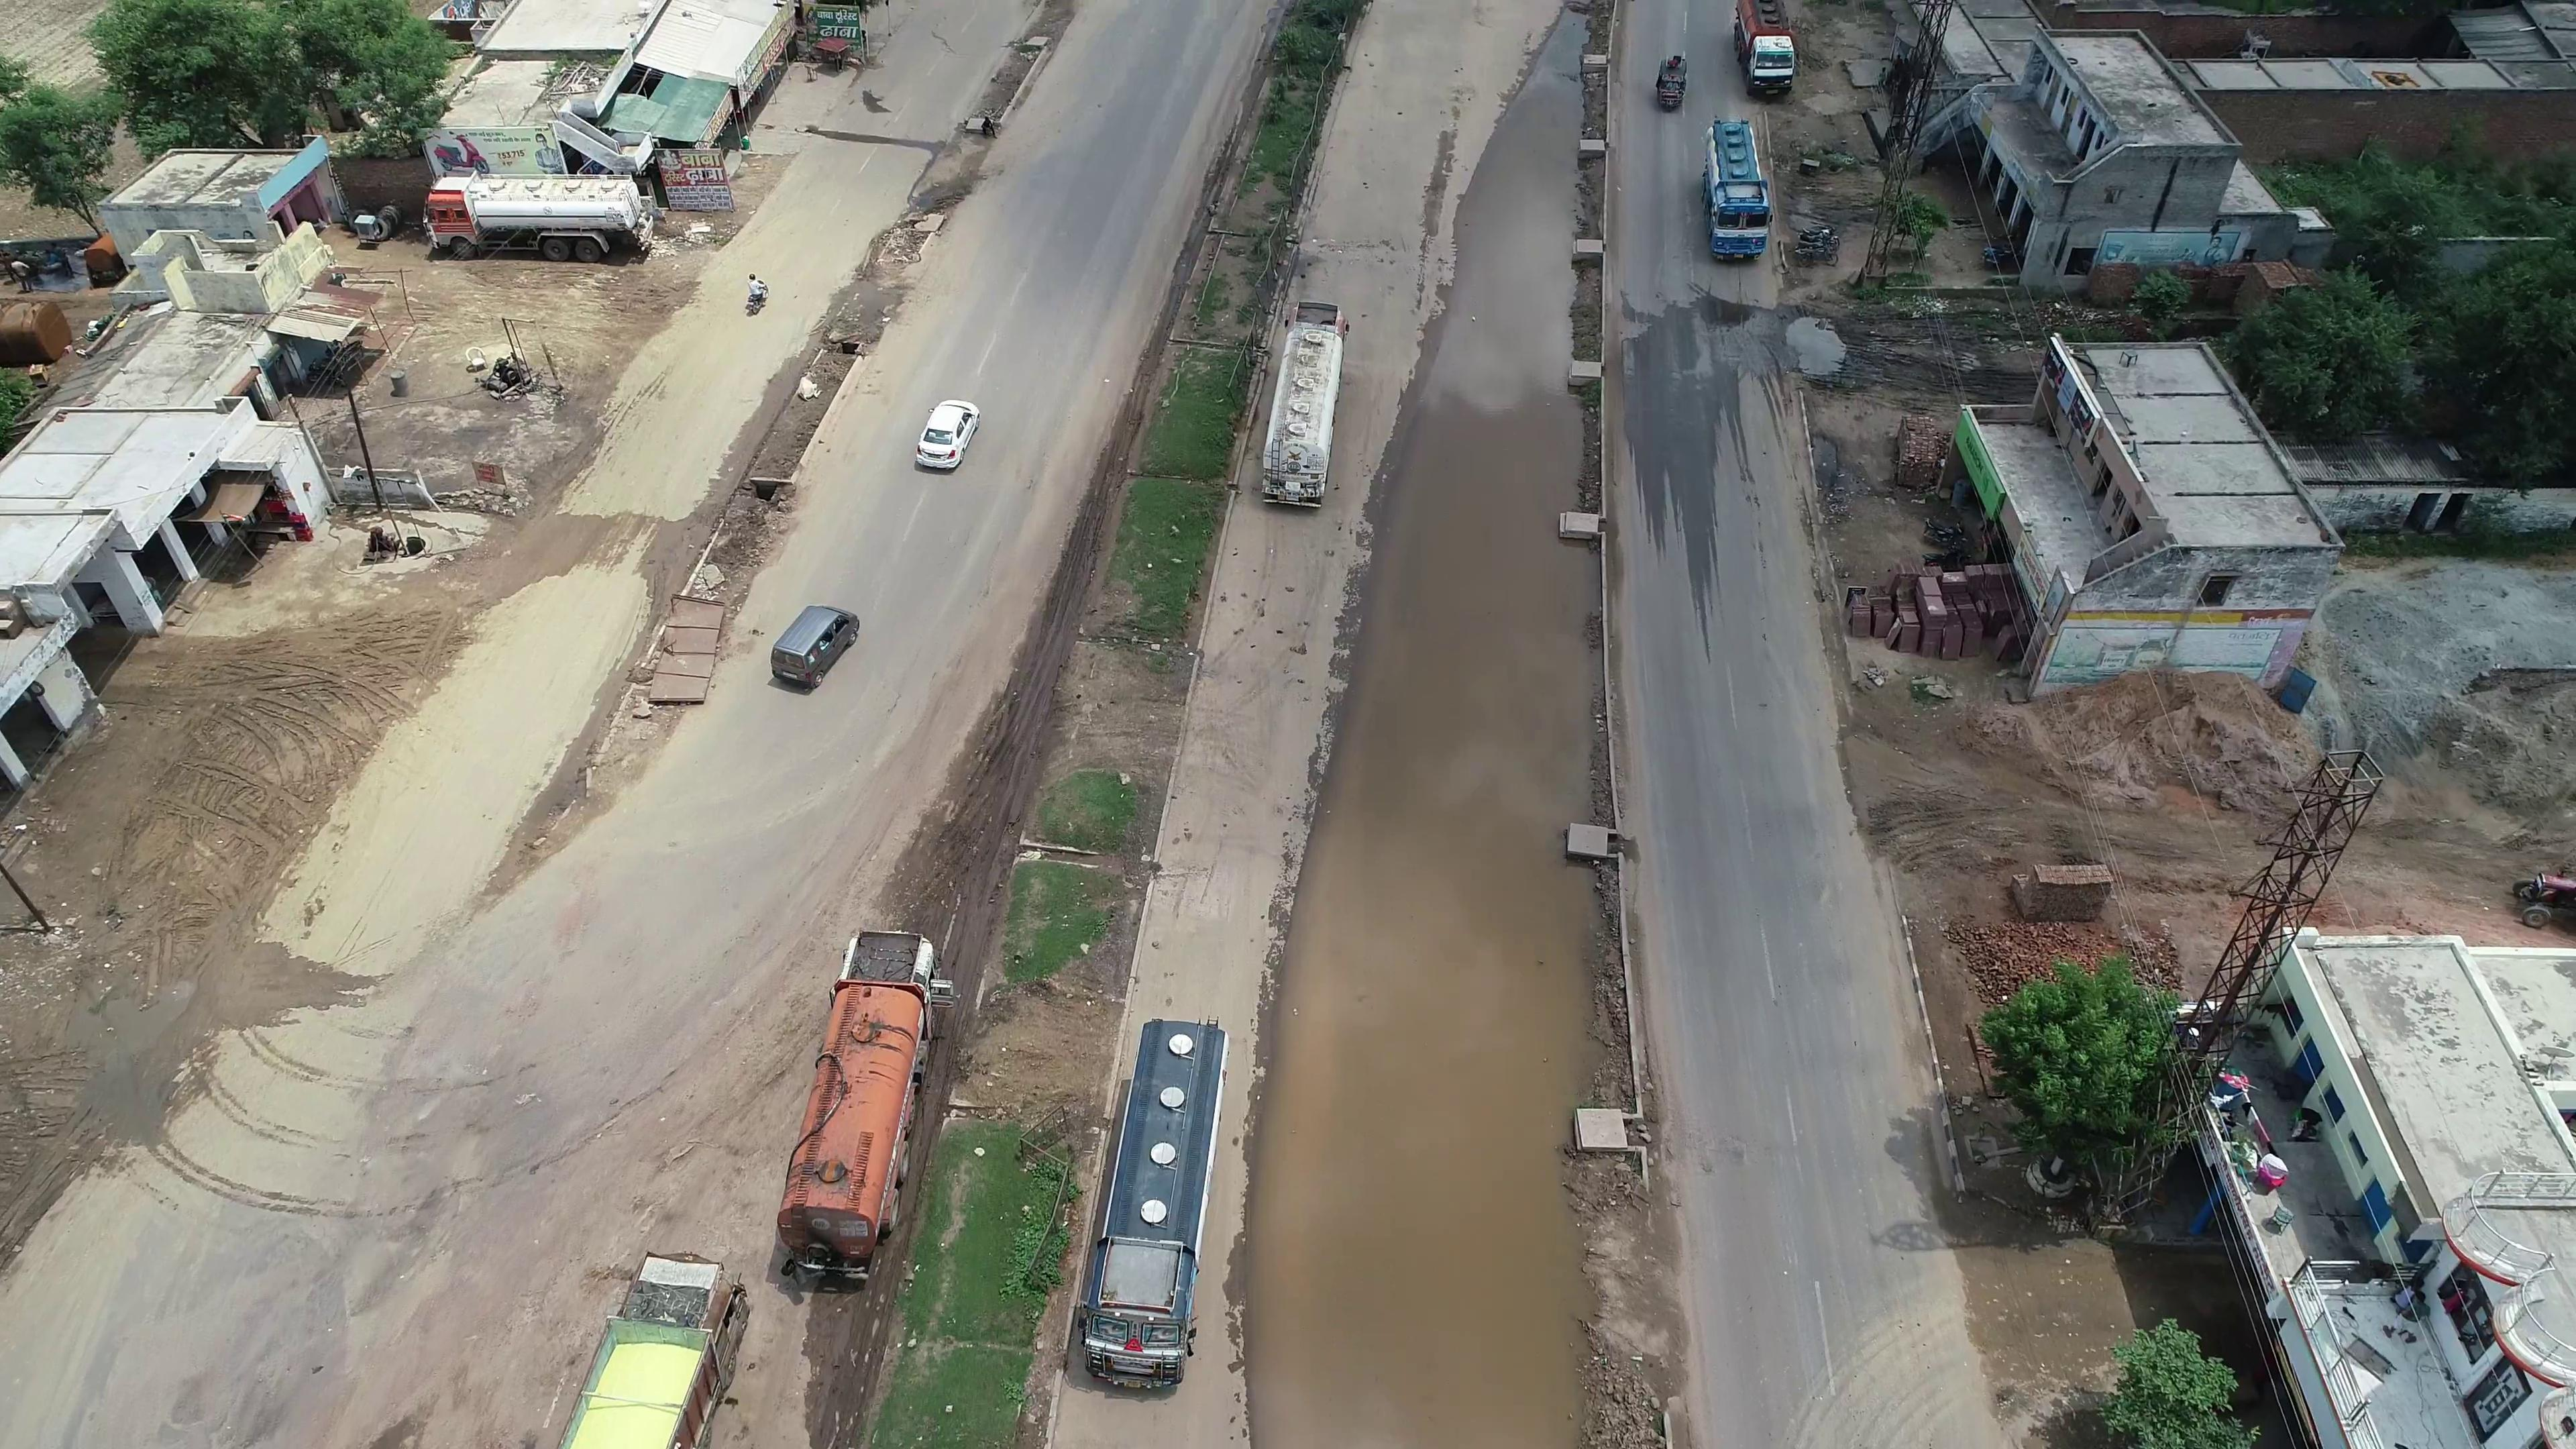Waterlogging: (1263, 830, 1578, 1430), (1313, 219, 1578, 810)
